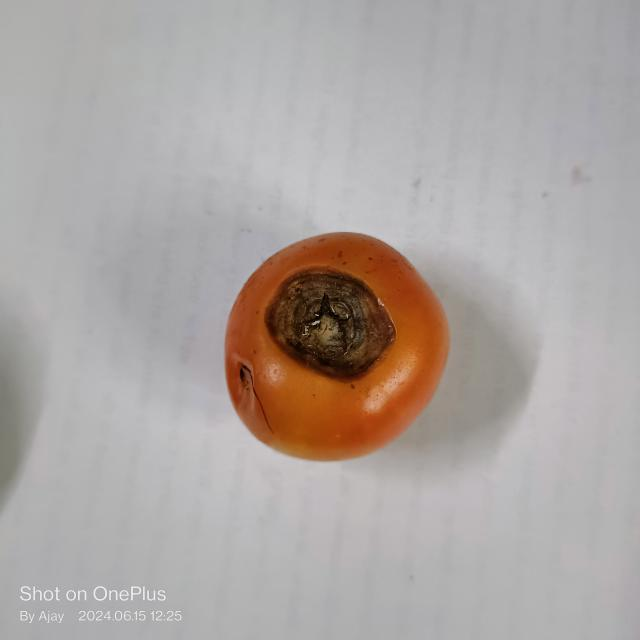Anthrocnose: (261, 265, 396, 384)
